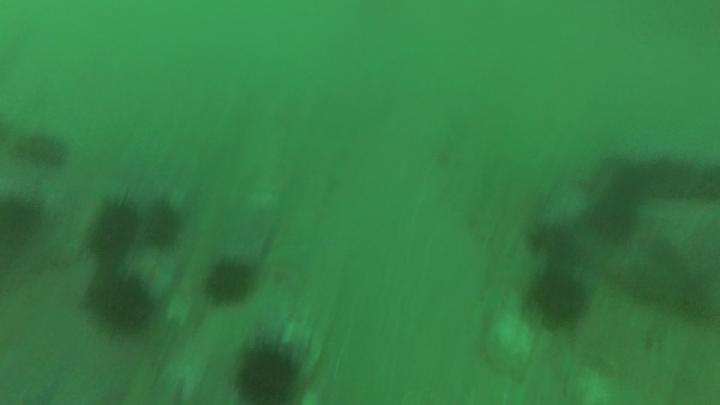echinus: (225, 329, 315, 405), (66, 268, 162, 337), (73, 189, 142, 265), (523, 259, 591, 330), (198, 256, 265, 315), (137, 189, 190, 253)
